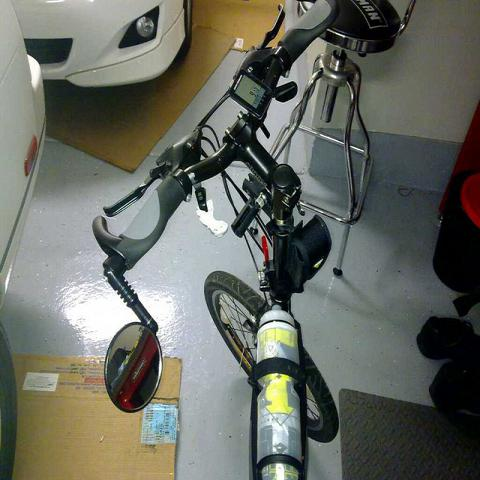car: (10, 1, 189, 85), (2, 2, 48, 299)
